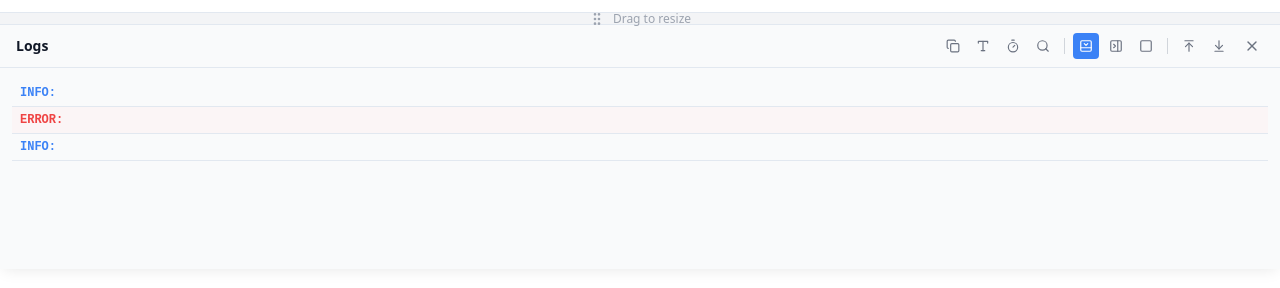
LogPanel › searches and shows match count
The image size is (1280, 288).
Click the button titled "Search logs" at coordinates (1043, 46), box [1030, 33, 1056, 59]
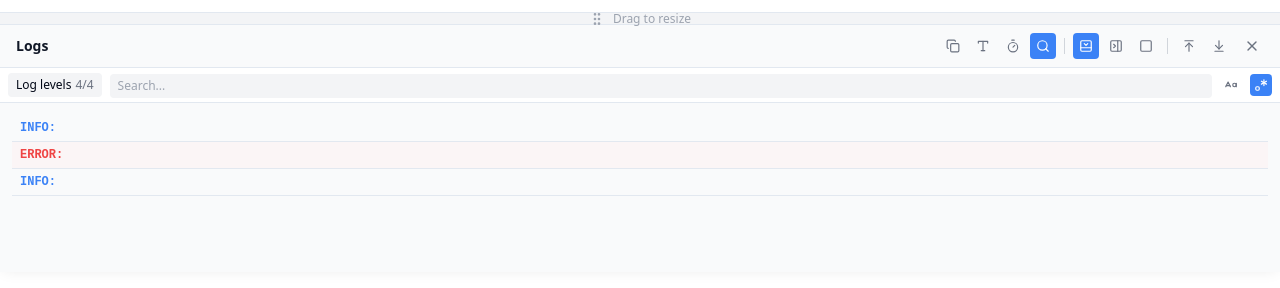
Type "build" into the field with placeholder "Search..." at coordinates (661, 86), box [110, 74, 1212, 98]
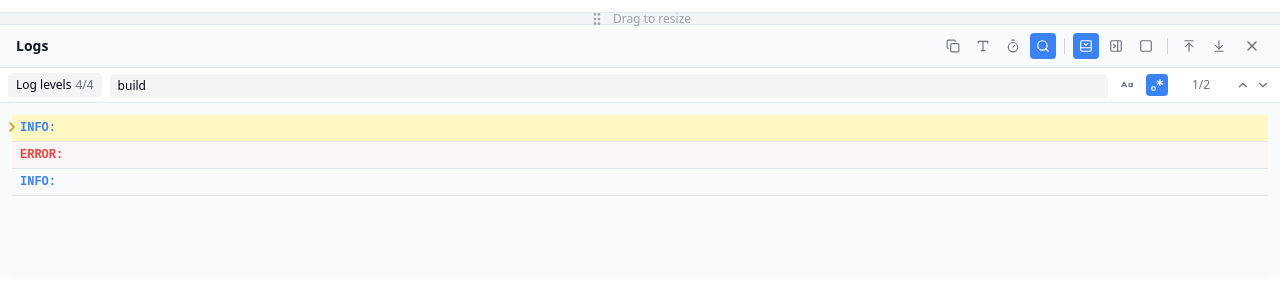
Check: the text "1/2" is shown, box [1192, 76, 1210, 93]
Replace the text in the field with placeholder "Search..." with "zzz-no-match" at coordinates (609, 86), box [110, 74, 1108, 98]
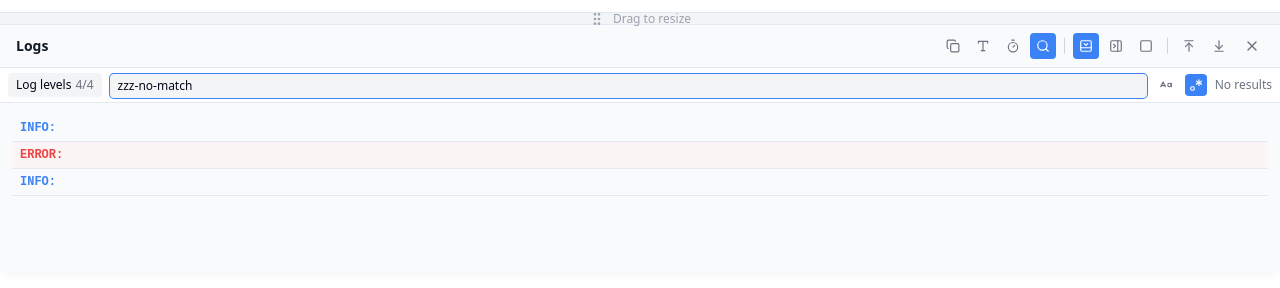
Check: the text "No results" is shown, box [1215, 77, 1272, 93]
